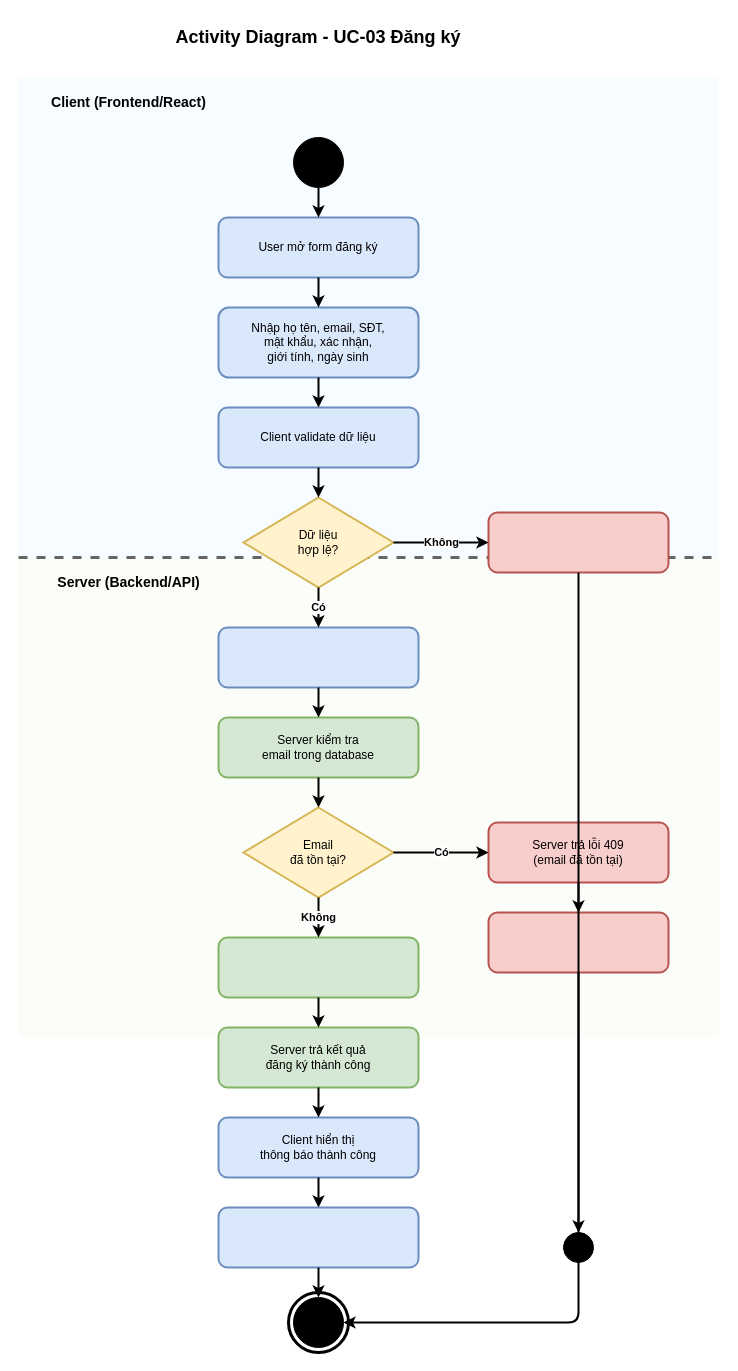
Image size: 738x1371. Some labels were removed from this diagram. The box of each missing label's shape, as (x1, y1, x2, y2) in pixels:
Chuyển về modal đăng nhập: (217, 1206, 419, 1268)
Client hiển thị lỗi validation: (487, 511, 669, 573)
Client hiển thị thông báo lỗi: (487, 911, 669, 973)
Gửi request POST /api/v1/auth/register: (217, 626, 419, 688)
Server tạo tài khoản mới: (217, 936, 419, 998)
